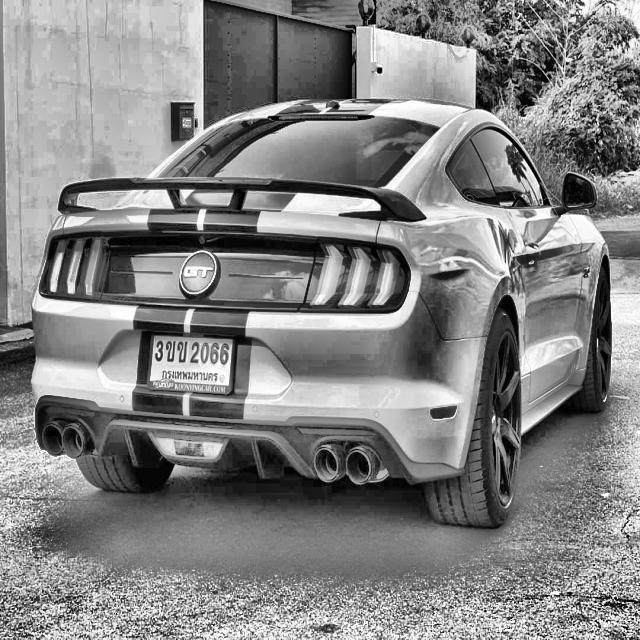license-plate: (145, 328, 239, 397)
